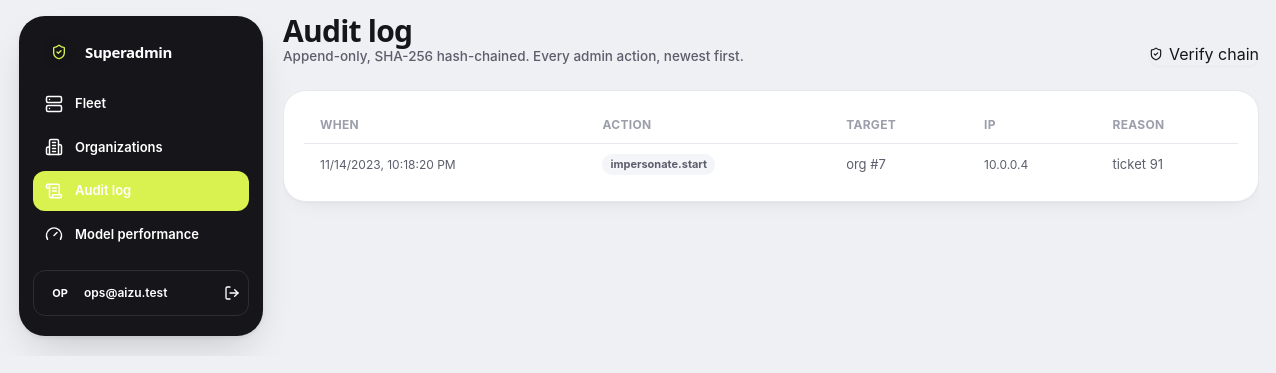
audit log › renders entries and reports an intact chain on verify
Expected: the text "impersonate.start" is shown, [602, 154, 715, 175]
Expected: the text "ticket 91" is shown, [1096, 144, 1238, 185]
Click the button "Verify chain".
click(1204, 54)  # box [1149, 42, 1259, 66]
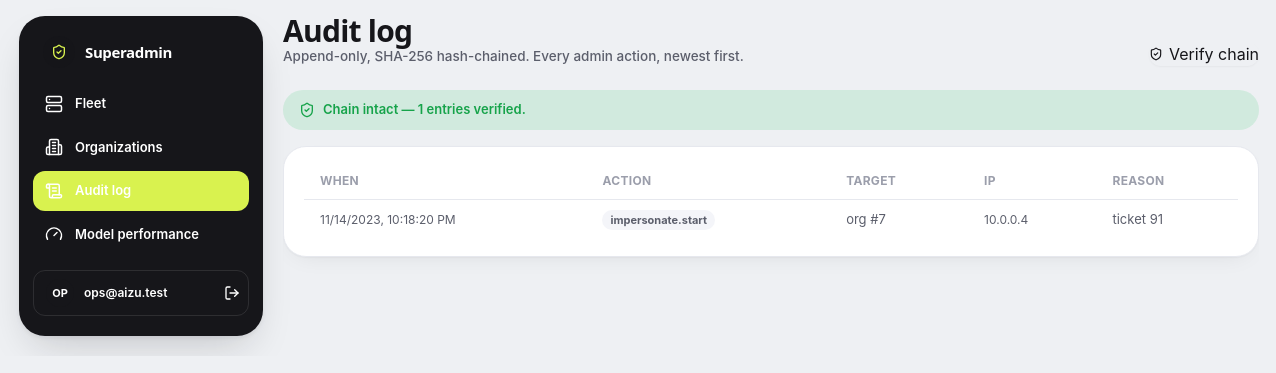
Result: the text "Chain intact — 1 entries verified." is shown at [283, 90, 1259, 130]
